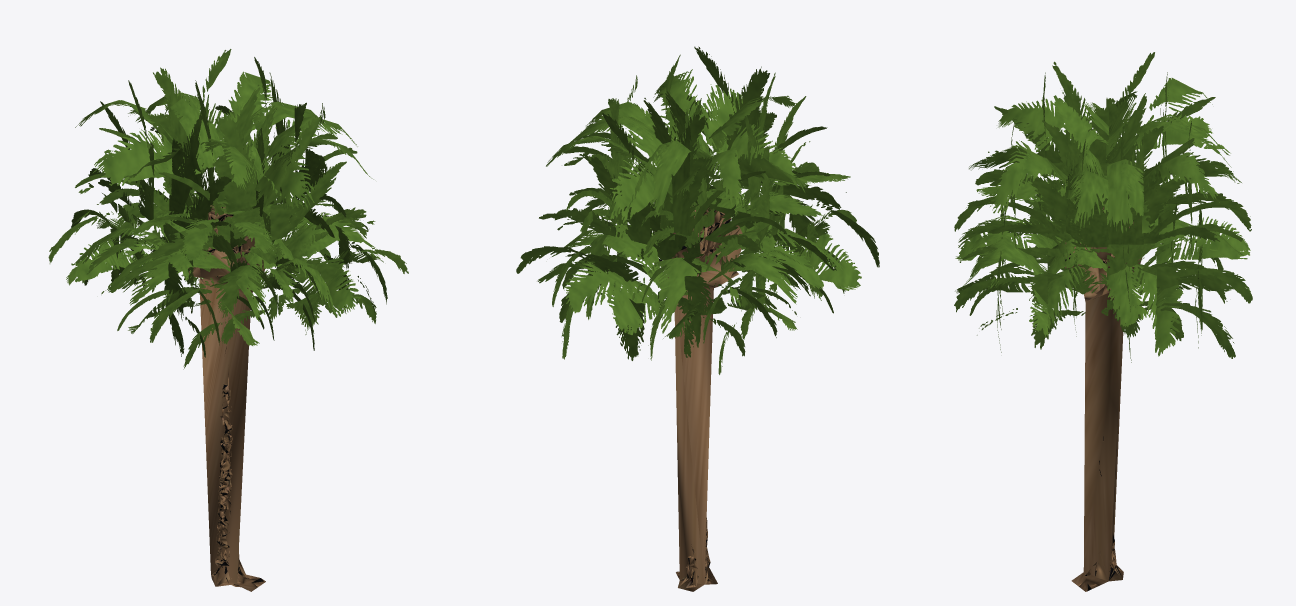
The model's file is palm-lean-mid.glb.
3 renders of one model, left to right at view 1: azimuth 30°, elevation 25°; view 2: azimuth 150°, elevation 25°; view 3: azimuth 270°, elevation 25°, orthographic. The views are drawn at different scales.
Parts seen in each view (by area): view 1: Foliage, Wood; view 2: Foliage, Wood; view 3: Foliage, Wood.
Boxes of the visible parts, bbox=[...] form: Foliage: bbox=[48, 49, 408, 369]; Wood: bbox=[188, 205, 266, 591]; Foliage: bbox=[516, 46, 879, 374]; Wood: bbox=[654, 205, 742, 591]; Foliage: bbox=[954, 52, 1252, 362]; Wood: bbox=[1065, 207, 1141, 591].
Bounding box in the file's own units: 6.94 × 12.2 × 7.54.
Materials: 2 (2 with a texture image).
